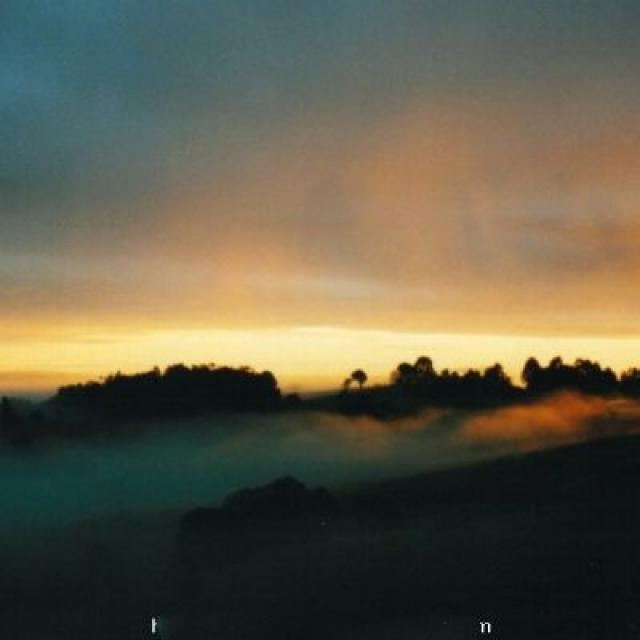Ns: (1, 6, 640, 336)
